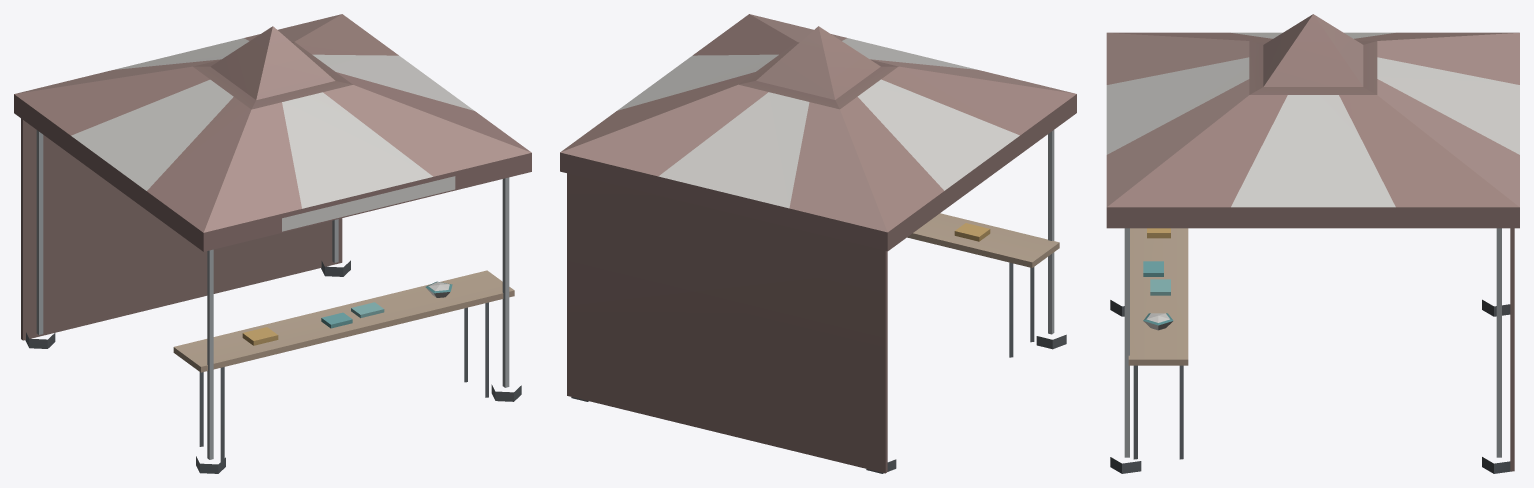
Rendered from tent.lod1.glb.
The picture shows the model from 3 angles, left to right: view 1: azimuth 30°, elevation 25°; view 2: azimuth 150°, elevation 25°; view 3: azimuth 270°, elevation 25°; orthographic projection. The views are drawn at different scales.
Size of the model in its own units: 3.6 by 3.6 by 3.62.
